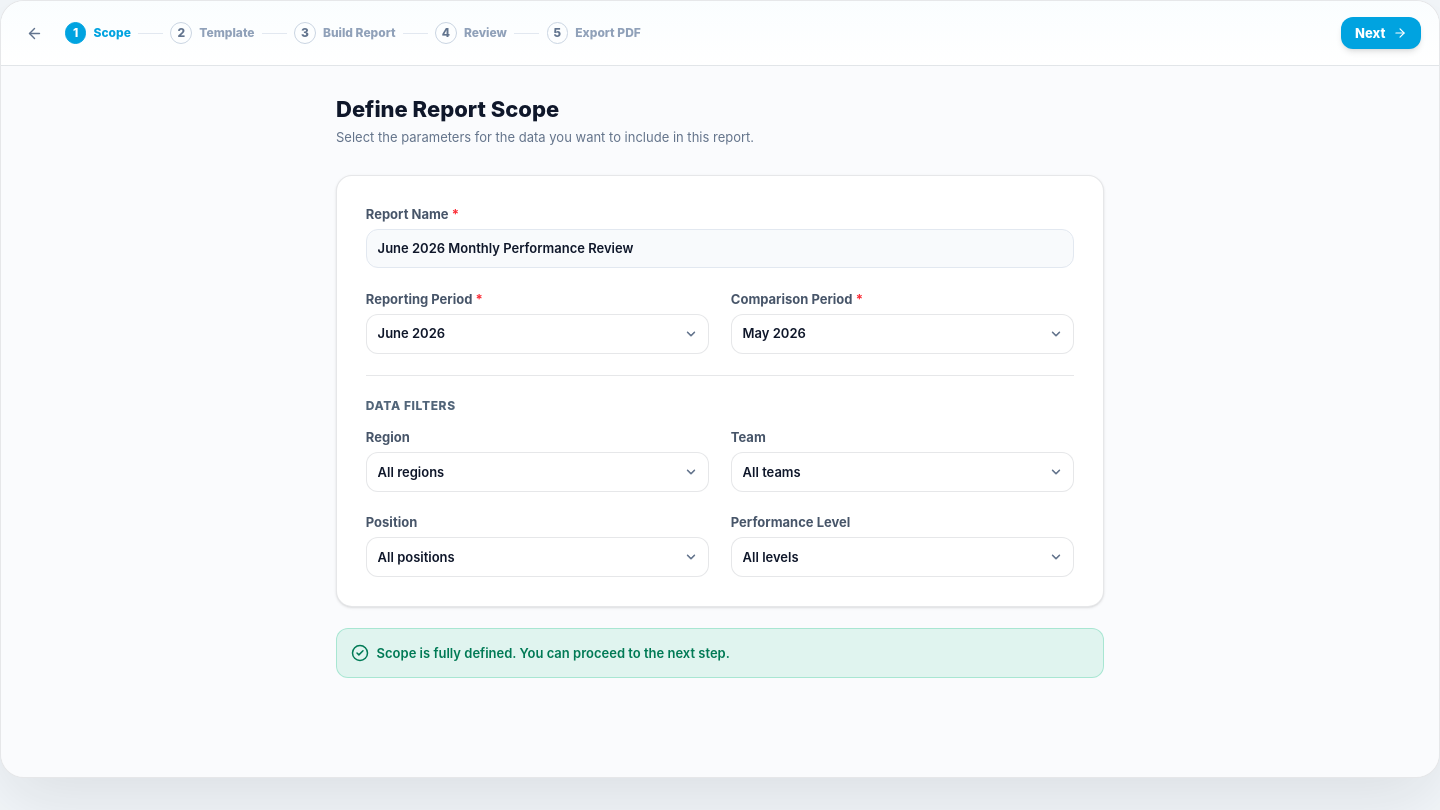
Test: ReportBuilderView navigation › shows the reason and focuses an invalid field instead of failing silently
Clear the field labelled "Report Name *": coordinates (720, 249) x1=366 y1=229 x2=1074 y2=268
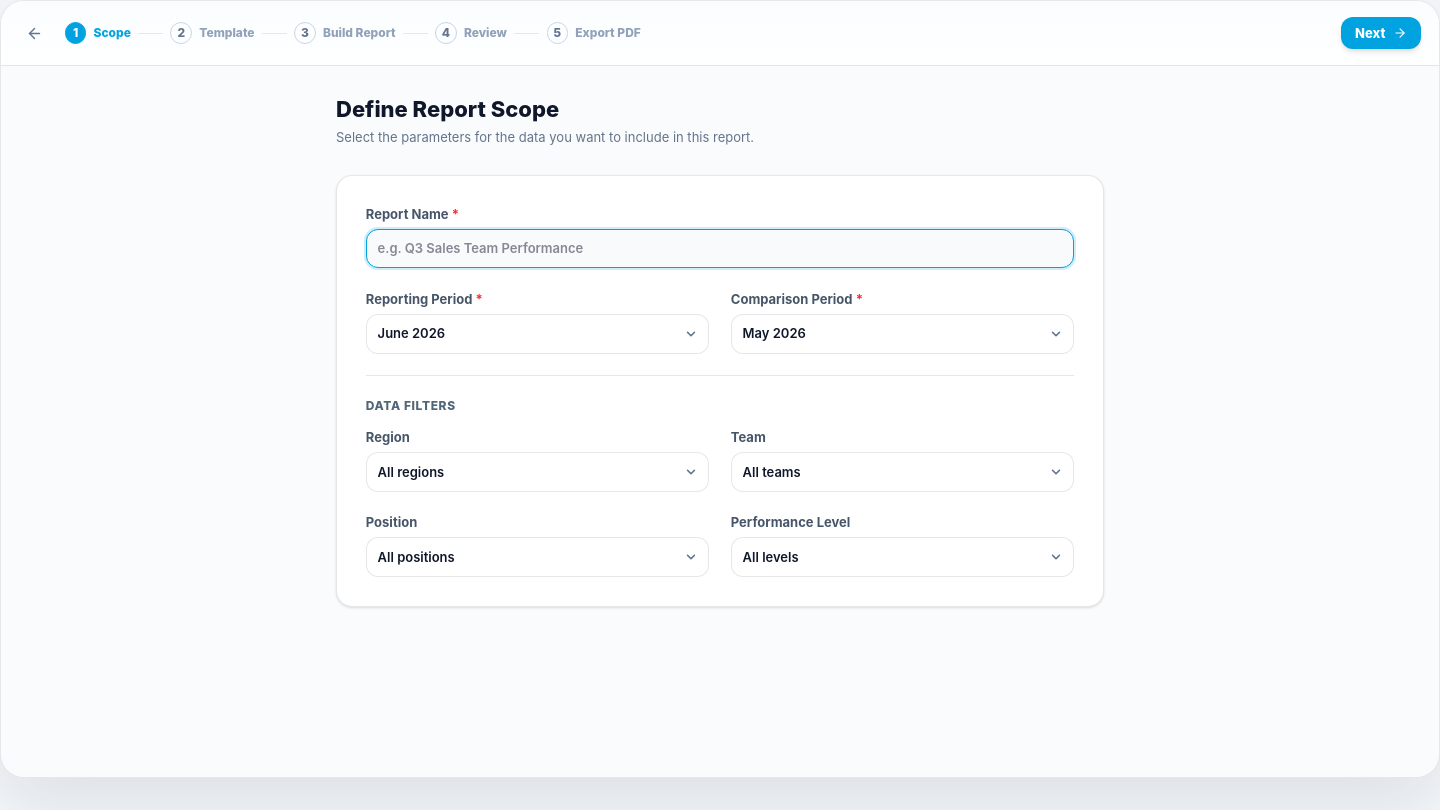
Click the button "Next": coordinates (1381, 33) x1=1341 y1=16 x2=1421 y2=49
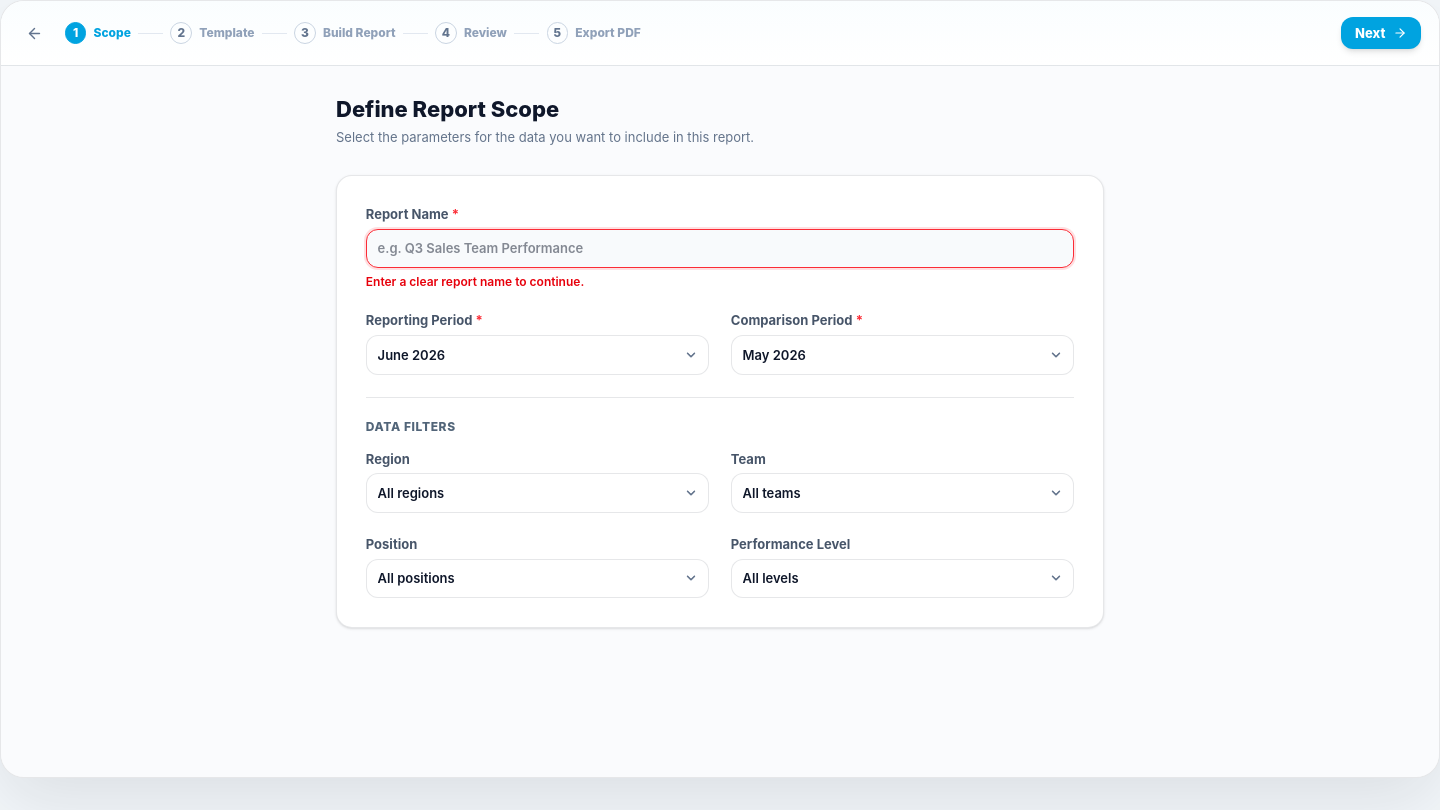
Expected: the text "Enter a clear report name to continue." is shown, x1=366 y1=274 x2=584 y2=289
